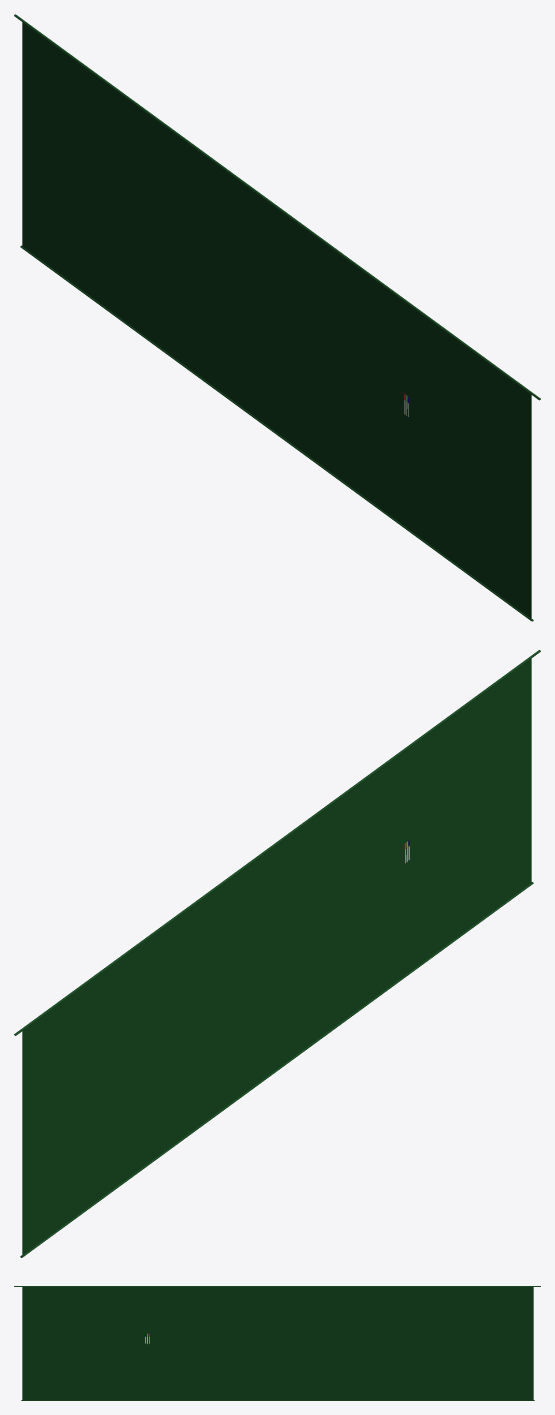
File: Prop_2.fbx
3 renders of one model, top to bottom at view 1: azimuth 30°, elevation 25°; view 2: azimuth 150°, elevation 25°; view 3: azimuth 270°, elevation 25°, orthographic. The views are drawn at different scales.
Visible parts, largest first — view 1: Black_board; view 2: Black_board; view 3: Black_board.
Part boxes in pixels (<box>): Black_board: <box>14,14,540,621</box>; Black_board: <box>14,650,540,1257</box>; Black_board: <box>14,1286,540,1400</box>.
Size of the model in its own units: 0.0259 by 2.34 by 9.75.
